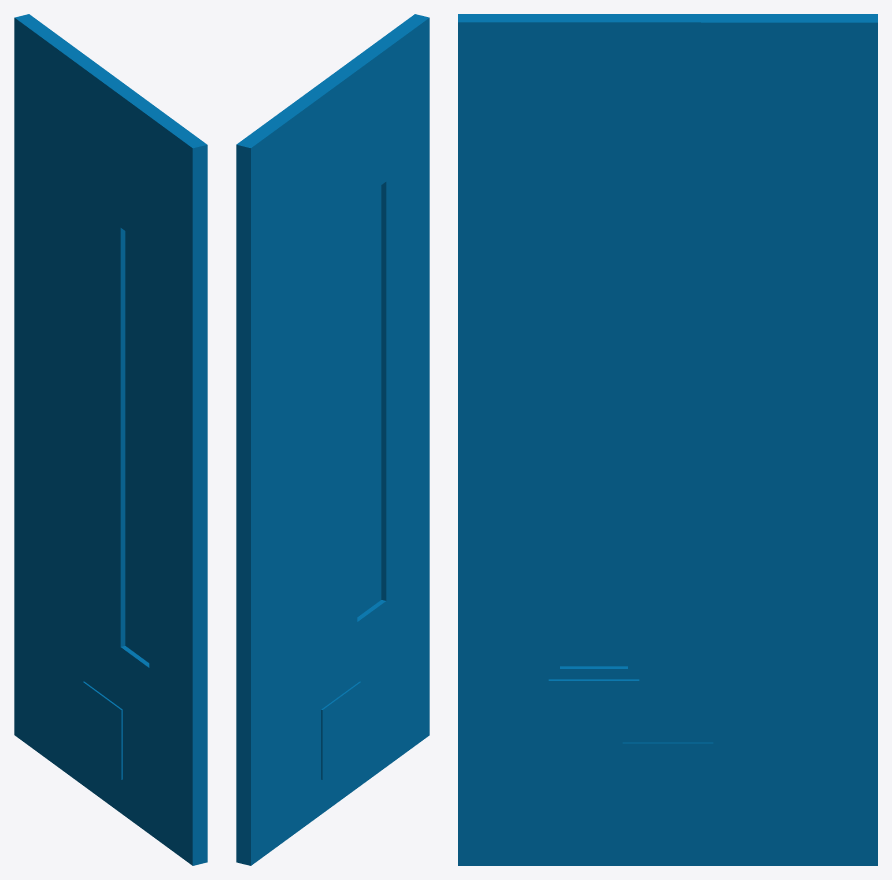
File: MainDoor1Transformed1.fbx
3 renders of one model, left to right at view 1: azimuth 30°, elevation 25°; view 2: azimuth 150°, elevation 25°; view 3: azimuth 270°, elevation 25°, orthographic. The views are drawn at different scales.
Parts seen in each view (by area): view 1: HB_Door_Concept_Int_Sgl_Solid_VP_- DT-03 (with Grille):1010x; view 2: HB_Door_Concept_Int_Sgl_Solid_VP_- DT-03 (with Grille):1010x; view 3: HB_Door_Concept_Int_Sgl_Solid_VP_- DT-03 (with Grille):1010x.
Boxes of the visible parts, x1,y1,x2,y2 form: HB_Door_Concept_Int_Sgl_Solid_VP_- DT-03 (with Grille):1010x: (14,14,207,865); HB_Door_Concept_Int_Sgl_Solid_VP_- DT-03 (with Grille):1010x: (236,14,429,865); HB_Door_Concept_Int_Sgl_Solid_VP_- DT-03 (with Grille):1010x: (458,14,877,865).
Bounding box in the file's own units: 0.0537 × 2.05 × 0.926.
